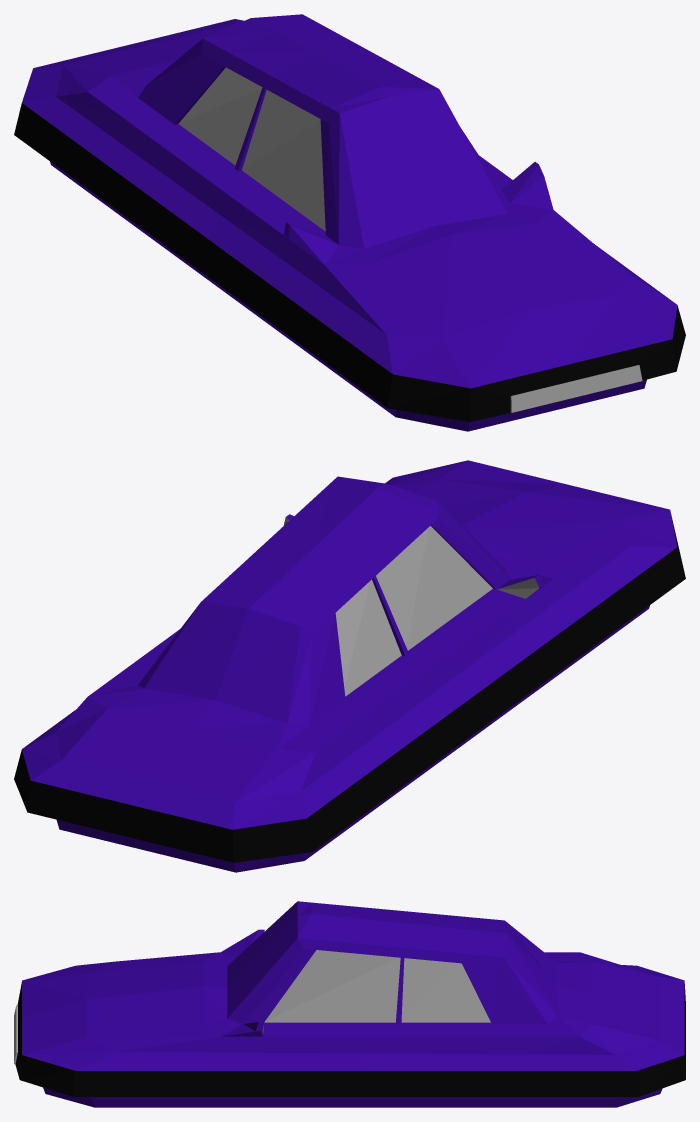
Rendered from Car_Purple.obj.
The picture shows the model from 3 angles, top to bottom: view 1: azimuth 30°, elevation 25°; view 2: azimuth 150°, elevation 25°; view 3: azimuth 270°, elevation 25°; orthographic projection. The views are drawn at different scales.
Visible parts, largest first — view 1: Car_Cube.001_Material, Car_Cube.001_Material.002, Car_Cube.001_Material.001, Car_Cube.001_Material.003; view 2: Car_Cube.001_Material, Car_Cube.001_Material.002, Car_Cube.001_Material.001; view 3: Car_Cube.001_Material, Car_Cube.001_Material.002, Car_Cube.001_Material.001.
Boxes of the visible parts, x1=… form: Car_Cube.001_Material: x1=22, y1=14, x2=677, y2=431; Car_Cube.001_Material.002: x1=14, y1=103, x2=685, y2=421; Car_Cube.001_Material.001: x1=178, y1=67, x2=325, y2=231; Car_Cube.001_Material.003: x1=510, y1=365, x2=642, y2=412; Car_Cube.001_Material: x1=22, y1=460, x2=677, y2=872; Car_Cube.001_Material.002: x1=14, y1=514, x2=685, y2=862; Car_Cube.001_Material.001: x1=283, y1=517, x2=539, y2=696; Car_Cube.001_Material: x1=22, y1=901, x2=684, y2=1107; Car_Cube.001_Material.002: x1=15, y1=982, x2=685, y2=1096; Car_Cube.001_Material.001: x1=262, y1=950, x2=490, y2=1034.
Bounding box in the file's own units: 5.97 × 3.72 × 15.36.
